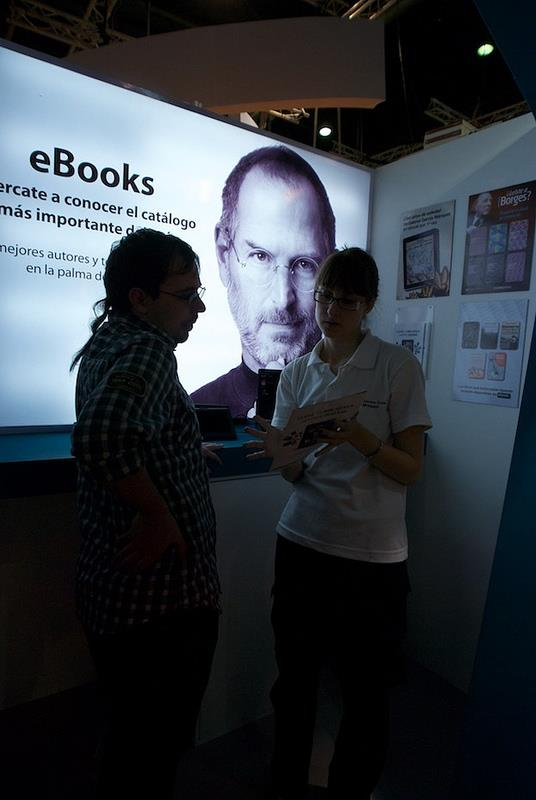Steven_Jobs: (191, 135, 364, 385)
